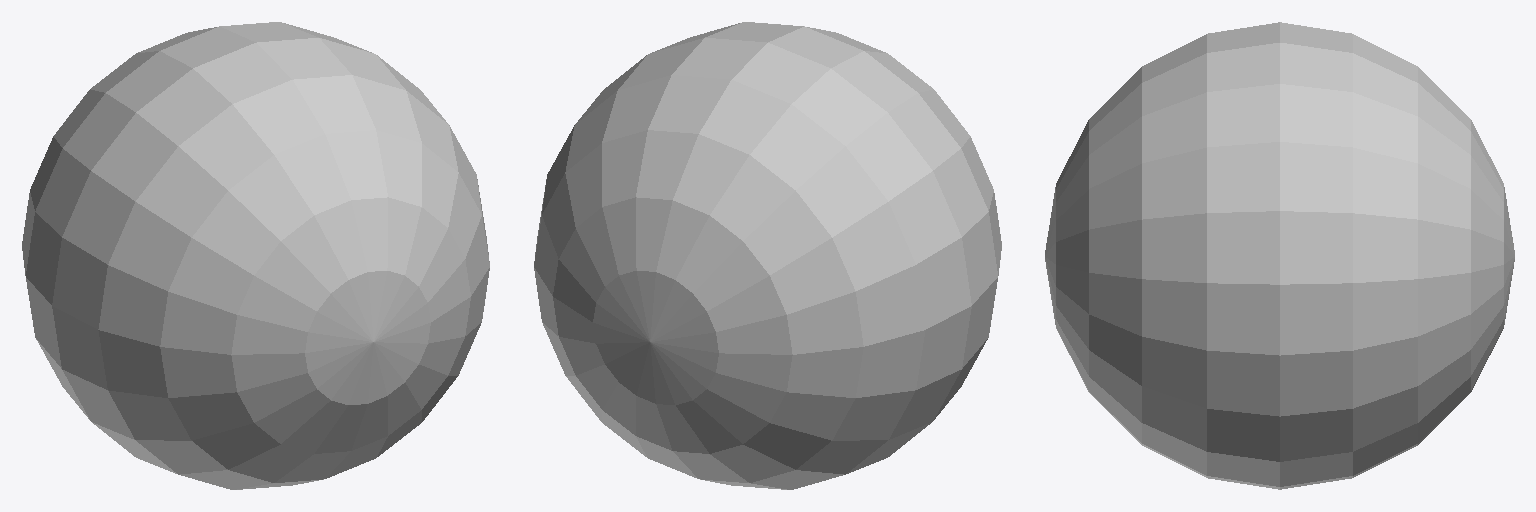
Rendered from pelota.obj.
3 renders of one model, left to right at view 1: azimuth 30°, elevation 25°; view 2: azimuth 150°, elevation 25°; view 3: azimuth 270°, elevation 25°, orthographic.
Visible parts, largest first — view 1: default; view 2: default; view 3: default.
Boxes of the visible parts, x1,y1,x2,y2 form: default: [22, 22, 489, 489]; default: [534, 22, 1001, 489]; default: [1045, 22, 1514, 489].
Size of the model in its own units: 0.24 by 0.24 by 0.24.